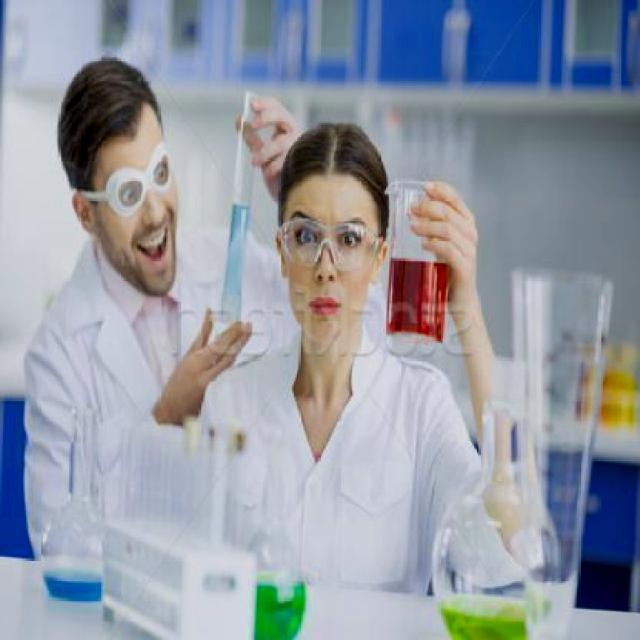face_nomask: (108, 153, 183, 272), (292, 223, 370, 317)
glasses: (278, 218, 382, 274), (100, 146, 178, 220)
hand_noglove: (163, 302, 255, 416), (227, 89, 308, 196), (404, 178, 478, 267)
head_nohelmet: (56, 52, 155, 152), (285, 121, 389, 196)
person: (179, 126, 521, 640), (17, 43, 266, 599)
